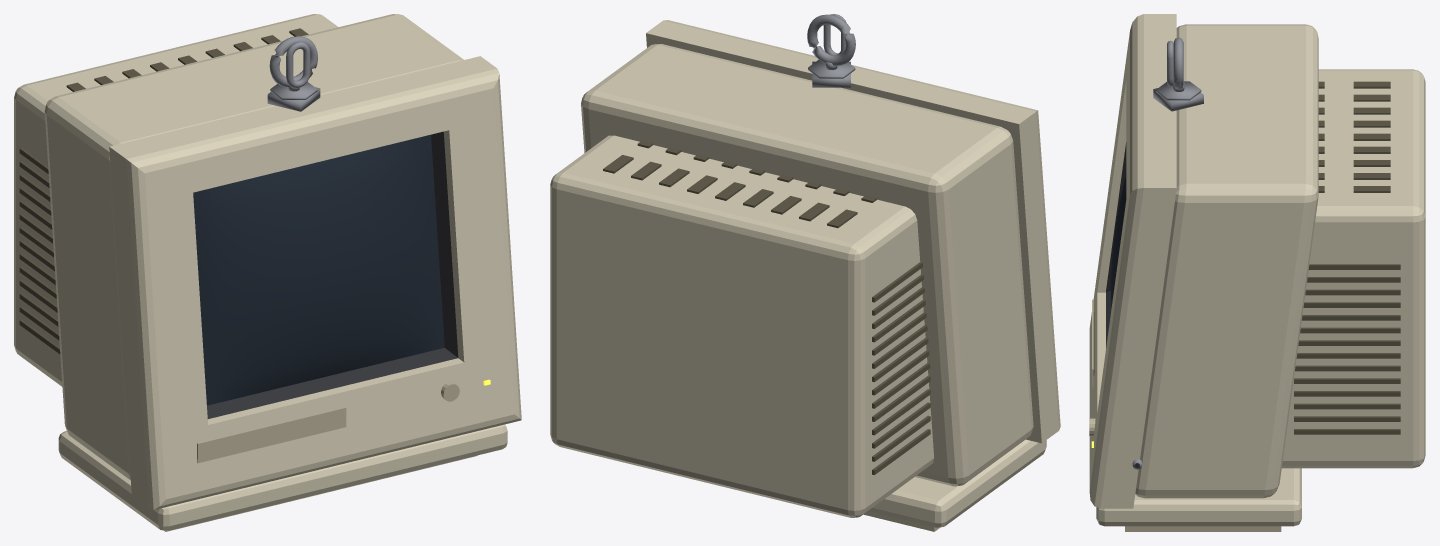
The model's file is monitor.glb.
The picture shows the model from 3 angles, left to right: view 1: azimuth 30°, elevation 25°; view 2: azimuth 150°, elevation 25°; view 3: azimuth 270°, elevation 25°; orthographic projection. The views are drawn at different scales.
Parts seen in each view (by area): view 1: monitor_case, monitor_screen, monitor_frame, monitor_vent, monitor_case_dark, monitor_metal, link; view 2: monitor_case, monitor_vent, monitor_metal; view 3: monitor_case, monitor_vent, monitor_metal, monitor_case_dark, monitor_screen, monitor_frame.
Boxes of the visible parts, <box> form: monitor_case: <box>14,14,521,530</box>; monitor_screen: <box>193,134,444,405</box>; monitor_frame: <box>207,131,458,418</box>; monitor_vent: <box>19,28,308,354</box>; monitor_case_dark: <box>164,382,477,531</box>; monitor_metal: <box>267,36,320,111</box>; link: <box>286,42,310,87</box>; monitor_case: <box>550,20,1060,527</box>; monitor_vent: <box>603,140,930,474</box>; monitor_metal: <box>807,14,855,87</box>; monitor_case: <box>1089,14,1425,526</box>; monitor_vent: <box>1093,81,1400,434</box>; monitor_metal: <box>1132,37,1203,469</box>; monitor_case_dark: <box>1089,299,1281,531</box>; monitor_screen: <box>1111,174,1126,307</box>; monitor_frame: <box>1106,142,1139,467</box>.
Bounding box in the file's own units: 1.01 × 1.12 × 0.8166.
